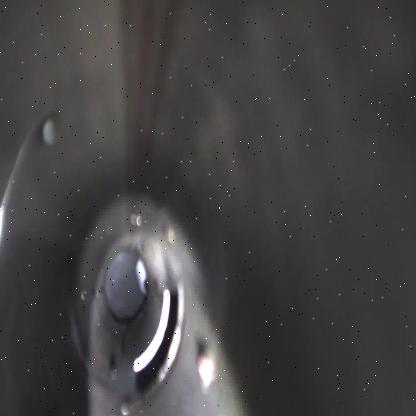Crack2: (131, 280, 184, 397)
